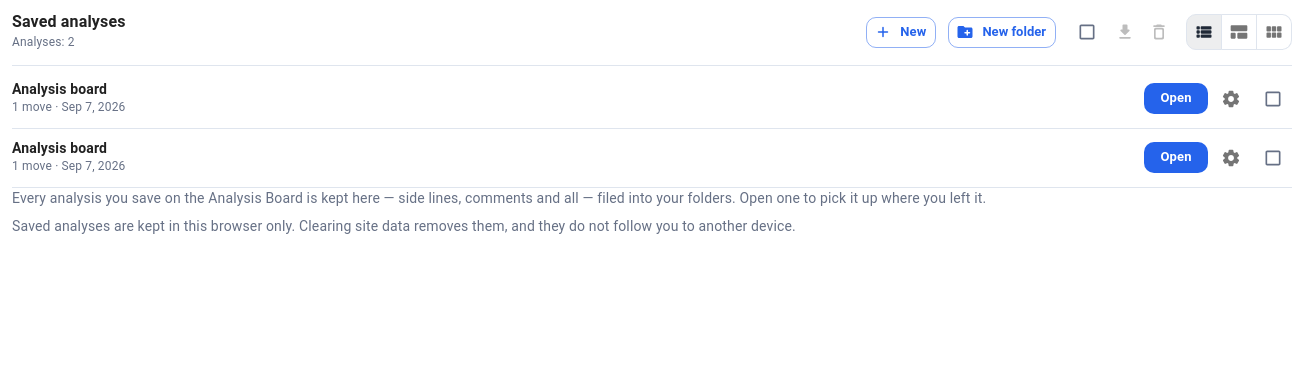
Saved analyses — the board view › names the opening the mainline reached, and only when the book knows it
The image size is (1304, 377).
Check: the element with test id "saved-analyses-screen" is shown, box [12,12,1292,188]
Click the button with test id "saved-analyses-view-compact": (1239, 32) [1221,14,1257,50]
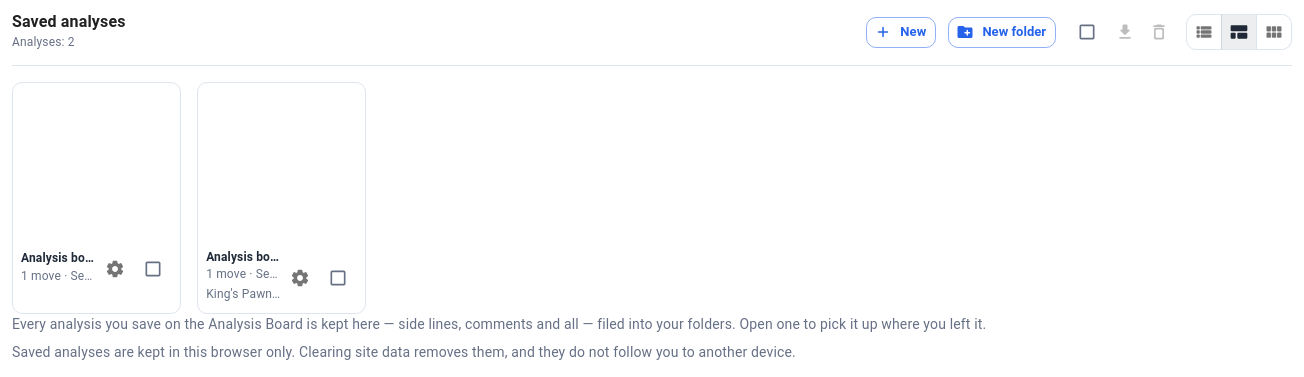
Check: the text with test id "saved-analyses-opening-a1" reads "King's Pawn Game · C20", box [206,287,339,301]
